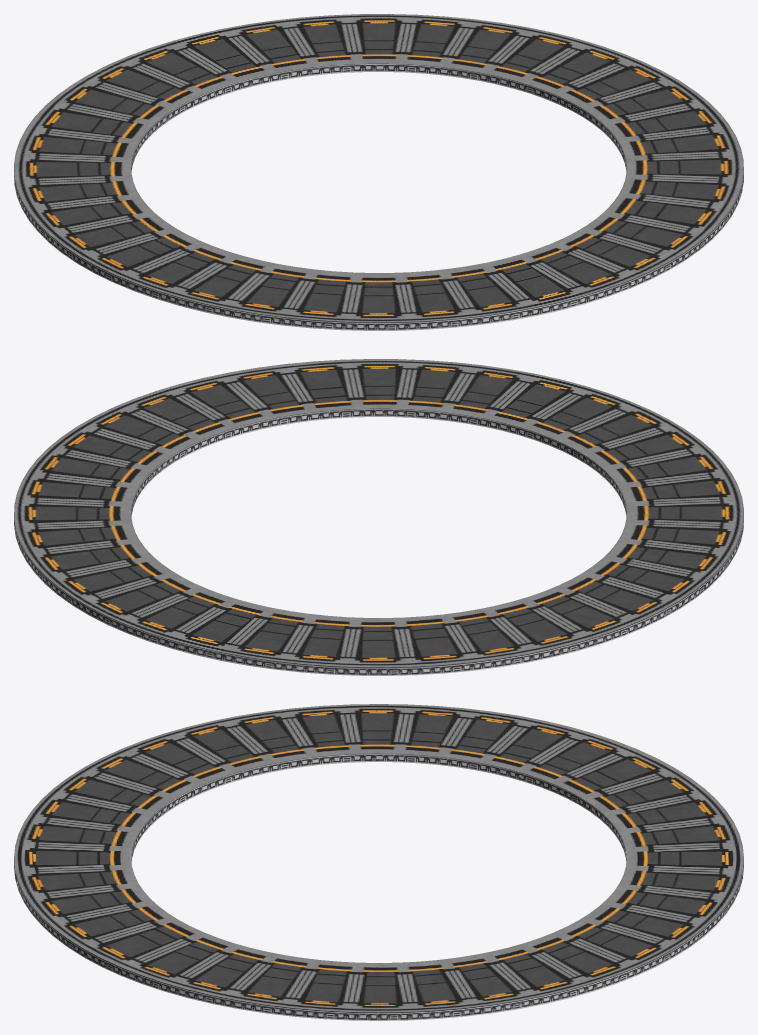
The model's file is scifi_gate.glb.
3 views of the same model, one above another, from view 1: azimuth 30°, elevation 25°; view 2: azimuth 150°, elevation 25°; view 3: azimuth 270°, elevation 25° (orthographic).
Parts seen in each view (by area): view 1: ring_plateforme_gauche, ring_plateforme_droite; view 2: ring_plateforme_gauche, ring_plateforme_droite; view 3: ring_plateforme_droite, ring_plateforme_gauche.
Boxes of the visible parts, x1,y1,x2,y2 form: ring_plateforme_gauche: [14, 34, 561, 330]; ring_plateforme_droite: [197, 14, 743, 309]; ring_plateforme_gauche: [196, 379, 743, 675]; ring_plateforme_droite: [14, 359, 560, 654]; ring_plateforme_droite: [14, 858, 743, 1020]; ring_plateforme_gauche: [14, 704, 743, 861].
Size of the model in its own units: 10.17 by 0.1303 by 10.17.
1 material, 1 textured.
